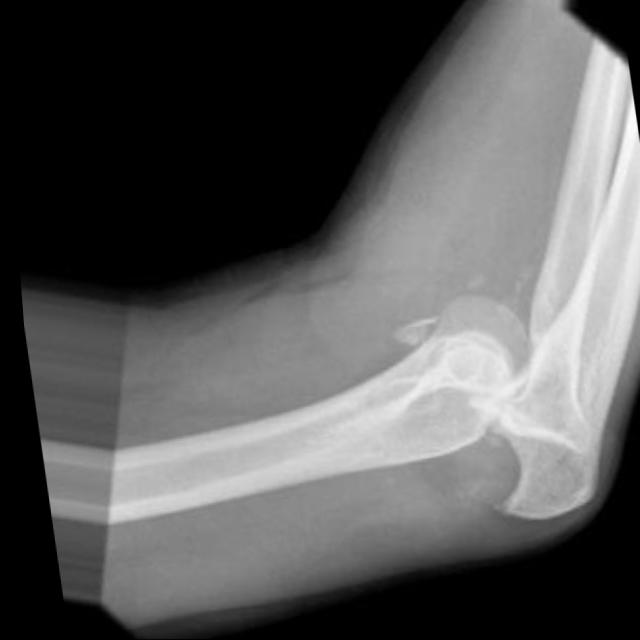fracture: (439, 400, 538, 532)
